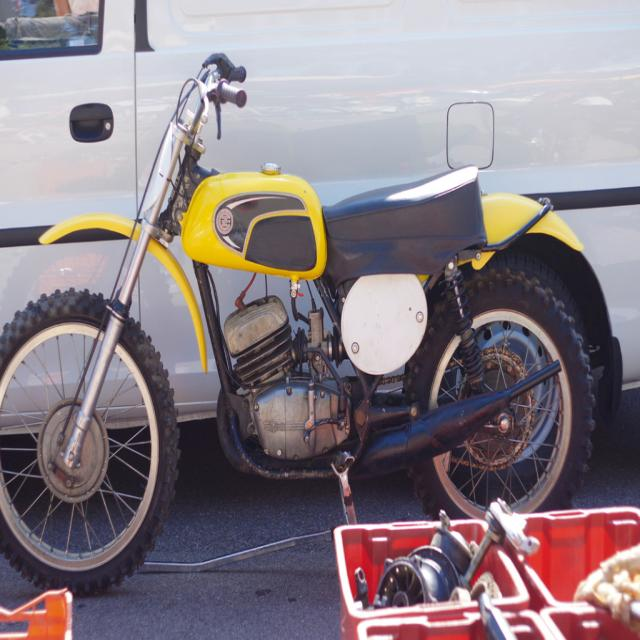Motorbikes: (1, 52, 600, 600)
